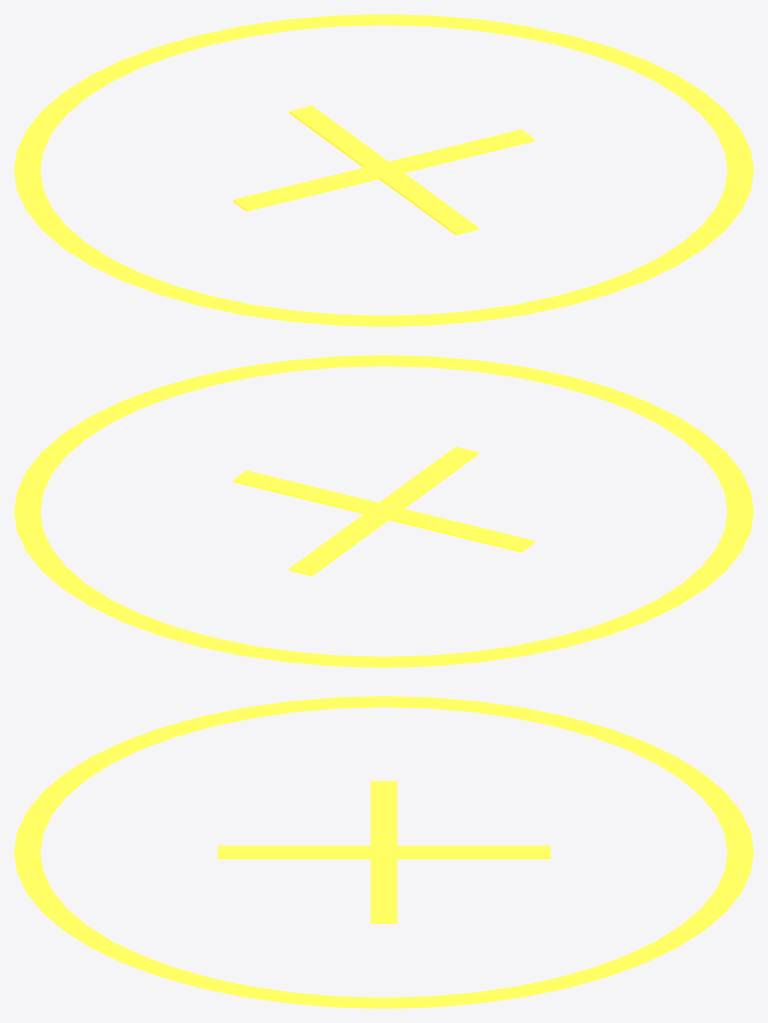
File: pad_markings.glb
The picture shows the model from 3 angles, top to bottom: view 1: azimuth 30°, elevation 25°; view 2: azimuth 150°, elevation 25°; view 3: azimuth 270°, elevation 25°; orthographic projection.
Visible parts, largest first — view 1: PadMarkings; view 2: PadMarkings; view 3: PadMarkings.
Part boxes in pixels (bbox=[...]): PadMarkings: bbox=[14, 14, 753, 326]; PadMarkings: bbox=[14, 355, 753, 667]; PadMarkings: bbox=[14, 696, 753, 1008].
Bounding box in the file's own units: 14 × 0.05 × 14.
